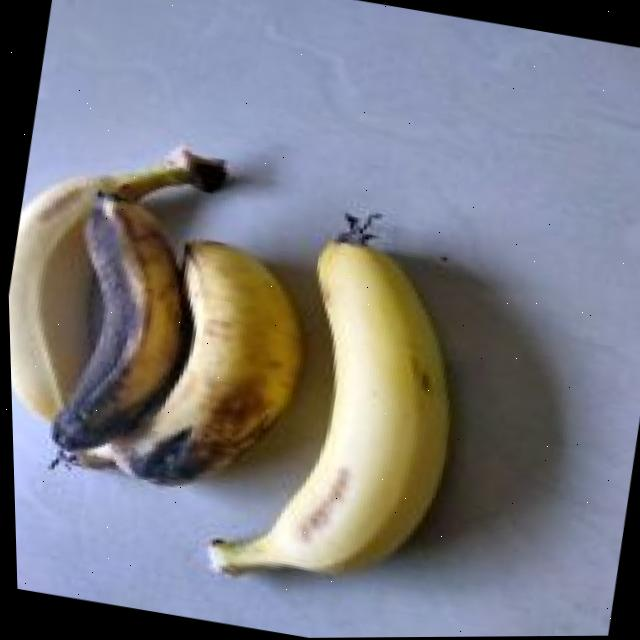Wet: (46, 213, 319, 508), (31, 179, 213, 470)
